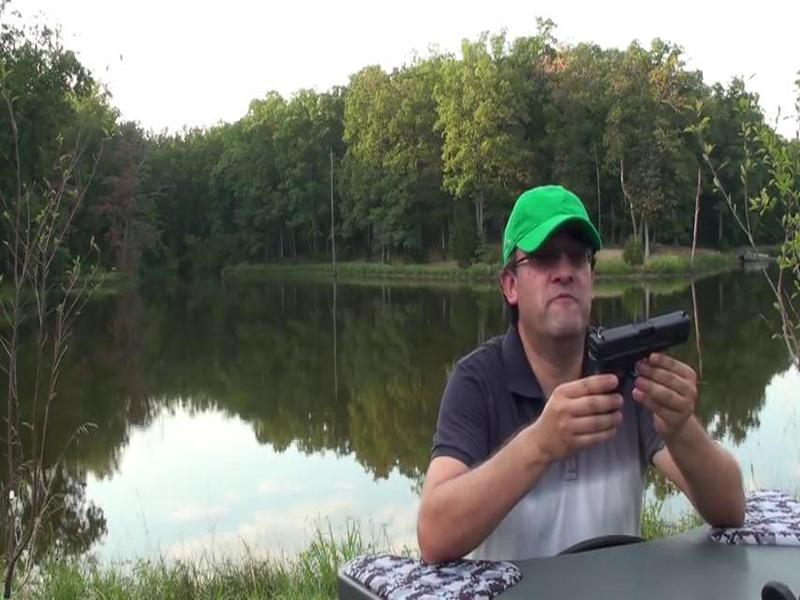Pistola: (553, 296, 717, 408)
